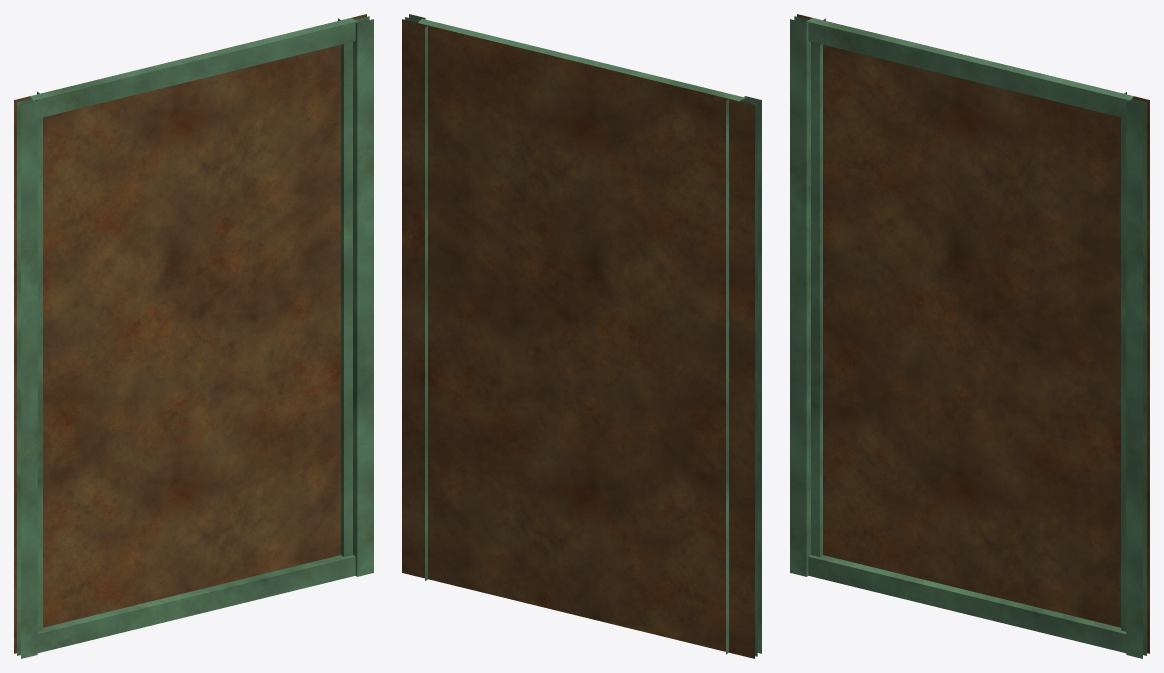
The model's file is Wall2_UpperDeck.FBX.
3 views of the same model, side by side, from view 1: azimuth 30°, elevation 25°; view 2: azimuth 150°, elevation 25°; view 3: azimuth 330°, elevation 25° (orthographic).
Visible parts, largest first — view 1: Object015; view 2: Object015; view 3: Object015.
Part boxes in pixels (box(x1,y1,x2,y2)): Object015: box(14, 14, 373, 658); Object015: box(402, 14, 761, 658); Object015: box(790, 14, 1149, 658).
Size of the model in its own units: 200 by 300 by 9.68.
